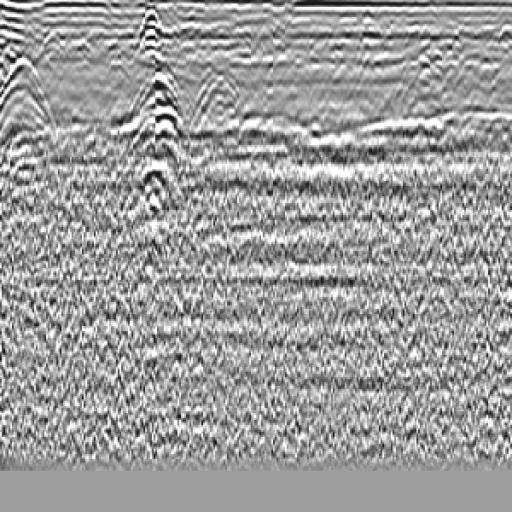metalic: (98, 12, 202, 245)
nonmetalic: (1, 37, 68, 165), (195, 54, 268, 141)
